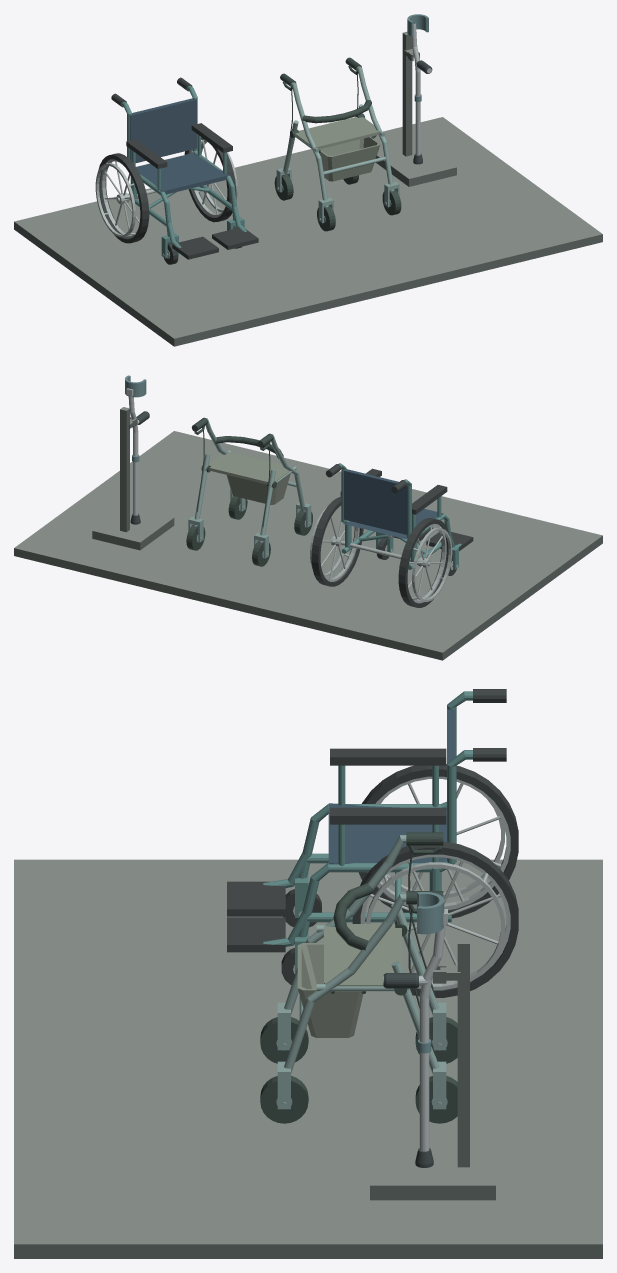
3 renders of one model, top to bottom at view 1: azimuth 30°, elevation 25°; view 2: azimuth 150°, elevation 25°; view 3: azimuth 270°, elevation 25°, orthographic. The views are drawn at different scales.
Visible parts, largest first — view 1: SCENE_ONLY__FloorAndCrutchDisplaySupport, wheelchair__WholeBackSling, wheelchair__WholeSeatSling, rollator__WholeEmptyTaperedUnderseatBag, rollator__WholeLowSeatPanel, wheelchair__WholeRearAnnularTireL, wheelchair__WholeSeparateHandrimL, crutch__WholeSingleBentShaft, wheelchair__WholeRearAnnularTireR, wheelchair__WholeForwardFootPlateL, wheelchair__WholeForwardFootPlateR, wheelchair__WholeBentSeatBackLegFrameL (+6 smaller); view 2: SCENE_ONLY__FloorAndCrutchDisplaySupport, wheelchair__WholeBackSling, rollator__WholeLowSeatPanel, wheelchair__WholeRearAnnularTireL, wheelchair__WholeRearAnnularTireR, rollator__WholeEmptyTaperedUnderseatBag, wheelchair__WholeSeparateHandrimL, crutch__WholeSingleBentShaft, wheelchair__WholeSeatSling, wheelchair__WholeBentSeatBackLegFrameL, wheelchair__WholeArmPadL, wheelchair__WholeRearMetalRimL (+1 smaller); view 3: SCENE_ONLY__FloorAndCrutchDisplaySupport, rollator__WholeEmptyTaperedUnderseatBag, rollator__WholeLowSeatPanel, wheelchair__WholeSeatSling, wheelchair__WholeRearAnnularTireL, wheelchair__WholeRearAnnularTireR, wheelchair__WholeBentSeatBackLegFrameR, crutch__WholeSingleBentShaft, wheelchair__WholeArmPadL, wheelchair__WholeArmPadR, wheelchair__WholeForwardFootPlateR, wheelchair__WholeForwardFootPlateL (+12 smaller).
Part boxes in pixels (x1,y1,x2,y2): SCENE_ONLY__FloorAndCrutchDisplaySupport: [14, 31, 602, 346]; wheelchair__WholeBackSling: [130, 98, 196, 162]; wheelchair__WholeSeatSling: [136, 153, 228, 194]; rollator__WholeEmptyTaperedUnderseatBag: [315, 137, 380, 181]; rollator__WholeLowSeatPanel: [295, 116, 380, 149]; wheelchair__WholeRearAnnularTireL: [98, 153, 149, 243]; wheelchair__WholeSeparateHandrimL: [95, 163, 135, 237]; crutch__WholeSingleBentShaft: [411, 23, 420, 155]; wheelchair__WholeRearAnnularTireR: [184, 137, 236, 222]; wheelchair__WholeForwardFootPlateL: [172, 236, 218, 259]; wheelchair__WholeForwardFootPlateR: [212, 228, 258, 249]; wheelchair__WholeBentSeatBackLegFrameL: [121, 101, 181, 247]; SCENE_ONLY__FloorAndCrutchDisplaySupport: [14, 407, 602, 660]; wheelchair__WholeBackSling: [344, 469, 407, 534]; rollator__WholeLowSeatPanel: [208, 451, 290, 484]; wheelchair__WholeRearAnnularTireL: [398, 518, 449, 607]; wheelchair__WholeRearAnnularTireR: [311, 497, 363, 586]; rollator__WholeEmptyTaperedUnderseatBag: [226, 455, 290, 504]; wheelchair__WholeSeparateHandrimL: [412, 527, 452, 601]; crutch__WholeSingleBentShaft: [128, 395, 138, 515]; wheelchair__WholeSeatSling: [343, 508, 443, 539]; wheelchair__WholeBentSeatBackLegFrameL: [404, 479, 461, 547]; wheelchair__WholeArmPadL: [412, 485, 447, 514]; wheelchair__WholeRearMetalRimL: [409, 524, 446, 603]; SCENE_ONLY__FloorAndCrutchDisplaySupport: [14, 859, 602, 1258]; rollator__WholeEmptyTaperedUnderseatBag: [297, 943, 363, 1037]; rollator__WholeLowSeatPanel: [324, 924, 401, 986]; wheelchair__WholeSeatSling: [328, 803, 446, 869]; wheelchair__WholeRearAnnularTireL: [358, 764, 518, 918]; wheelchair__WholeRearAnnularTireR: [352, 841, 518, 997]; wheelchair__WholeBentSeatBackLegFrameR: [263, 750, 472, 946]; crutch__WholeSingleBentShaft: [419, 924, 445, 1151]; wheelchair__WholeArmPadL: [330, 748, 446, 765]; wheelchair__WholeArmPadR: [330, 807, 446, 824]; wheelchair__WholeForwardFootPlateR: [227, 917, 285, 952]; wheelchair__WholeForwardFootPlateL: [227, 881, 285, 916].
Bounding box in the file's own units: 3.4 × 1.21 × 2.2.
